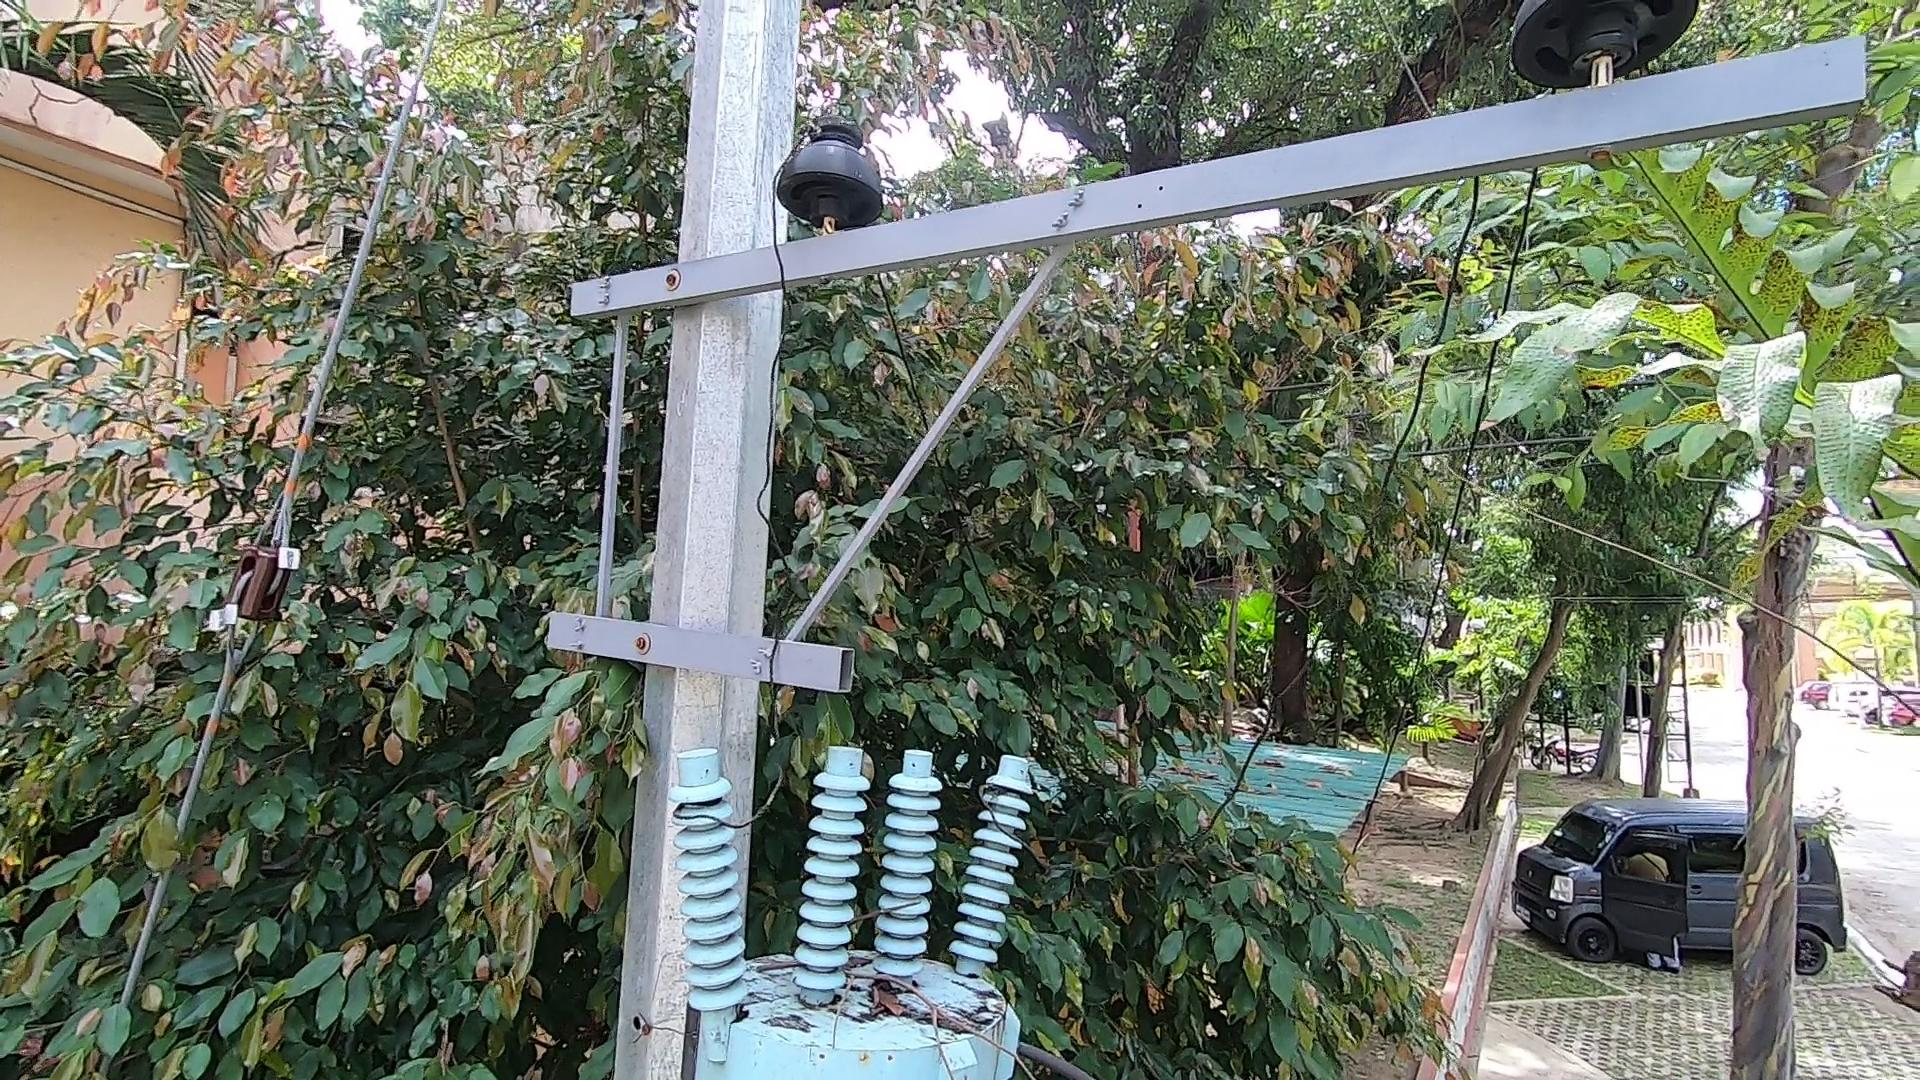leaf: (843, 971, 927, 1019)
tree branch: (758, 930, 1025, 1080)
